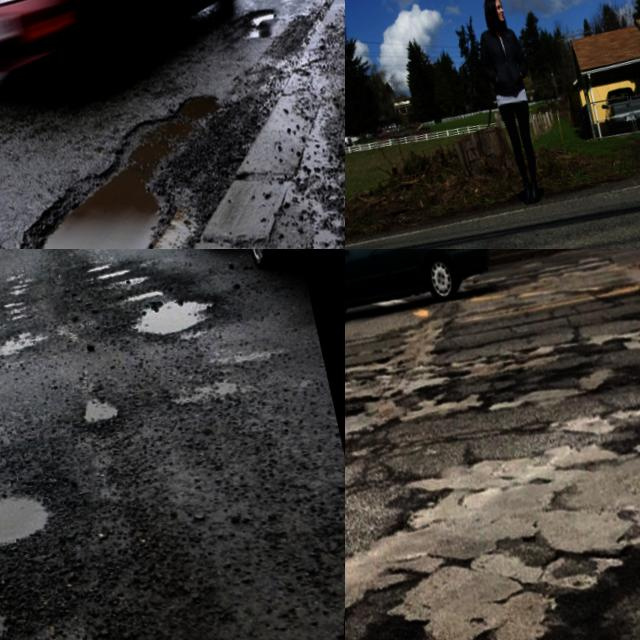Potholes: (0, 39, 323, 249), (400, 317, 632, 469), (498, 471, 640, 640), (74, 252, 248, 374), (0, 440, 115, 606), (35, 344, 188, 466), (345, 547, 473, 640), (38, 249, 167, 320), (607, 256, 640, 379), (16, 249, 104, 269)
